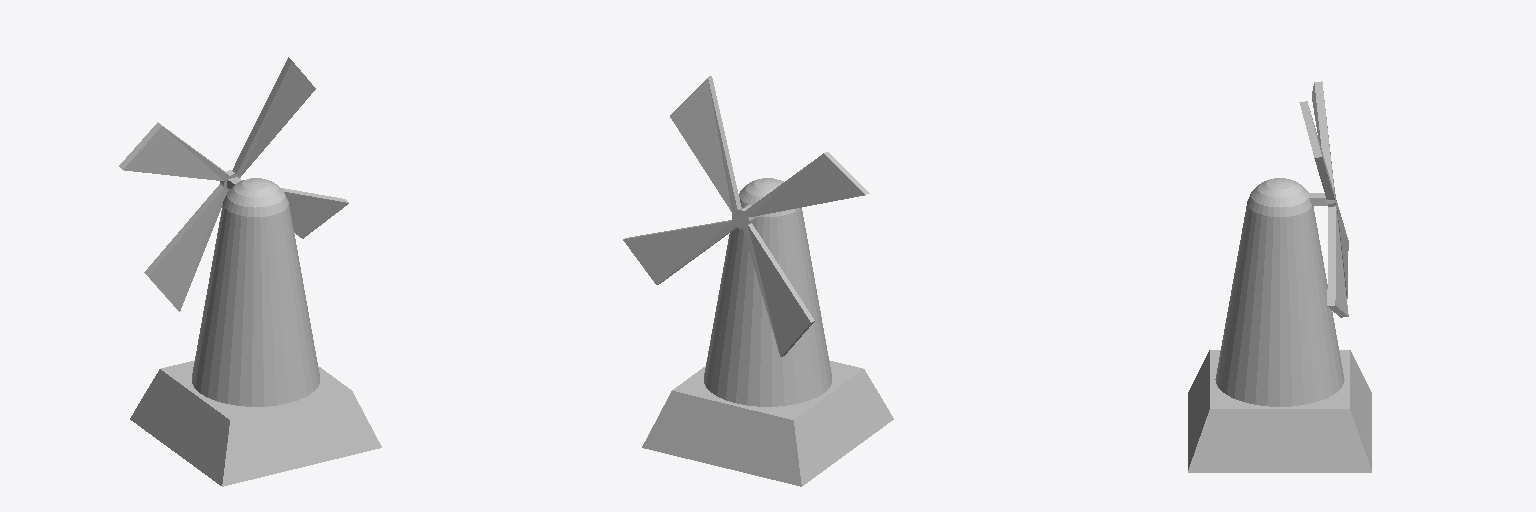
File: windmill.obj
The picture shows the model from 3 angles: view 1: azimuth 30°, elevation 25°; view 2: azimuth 150°, elevation 25°; view 3: azimuth 270°, elevation 25°; orthographic projection.
Parts seen in each view (by area): view 1: Cube_Cube.001; view 2: Cube_Cube.001; view 3: Cube_Cube.001.
Boxes of the visible parts, x1=… form: Cube_Cube.001: x1=119, y1=57, x2=381, y2=486; Cube_Cube.001: x1=623, y1=76, x2=893, y2=486; Cube_Cube.001: x1=1188, y1=81, x2=1371, y2=472.
Bounding box in the file's own units: 3.13 × 4.52 × 2.13.